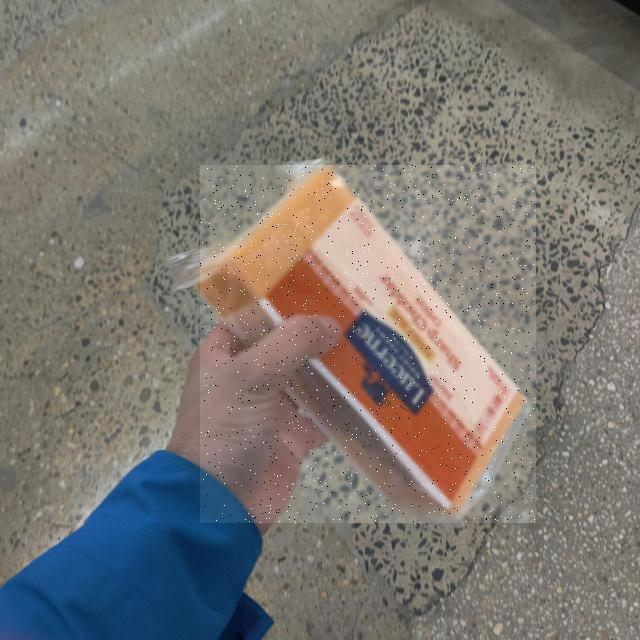cheese: (0, 262, 468, 640)
